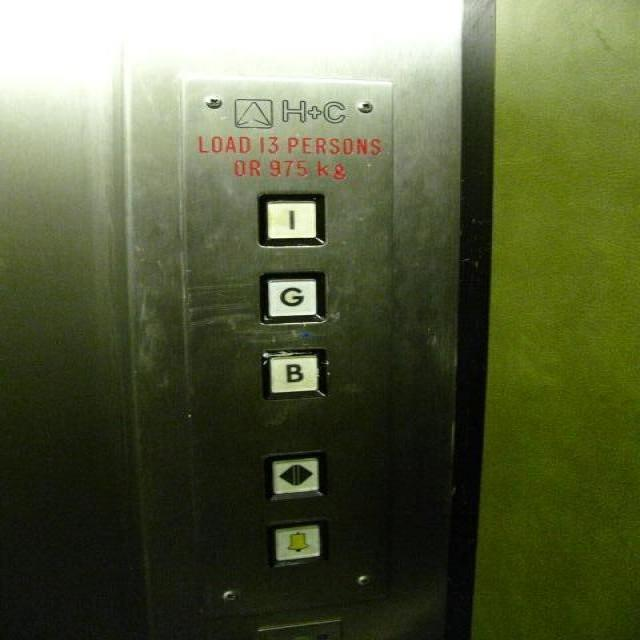1: (252, 187, 331, 250)
B: (256, 343, 332, 402)
G: (252, 267, 332, 327)
alarm: (260, 514, 331, 574)
open: (260, 447, 327, 507)
